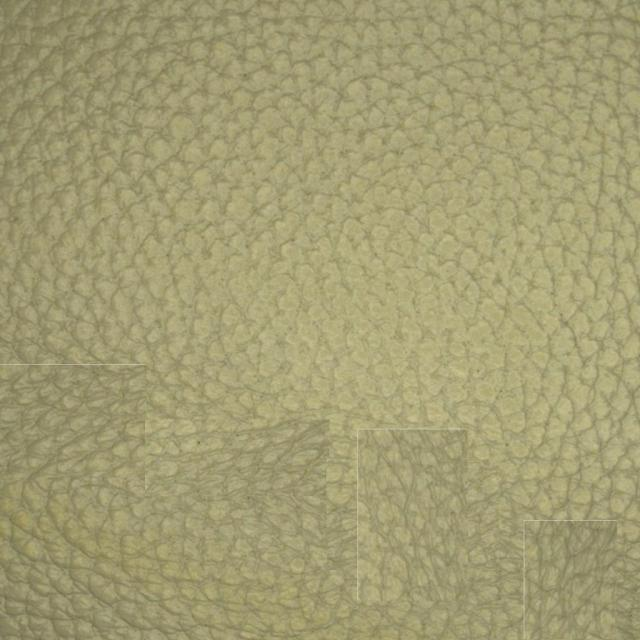Healed Injury: (14, 358, 308, 598), (329, 381, 596, 609)
